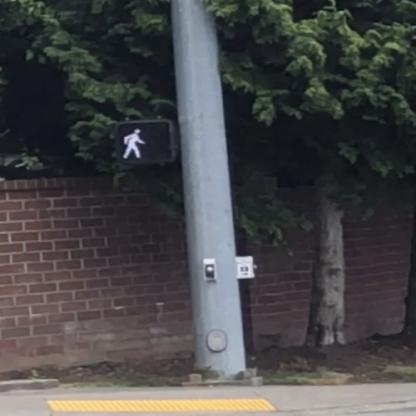Walk: (117, 121, 174, 162)
